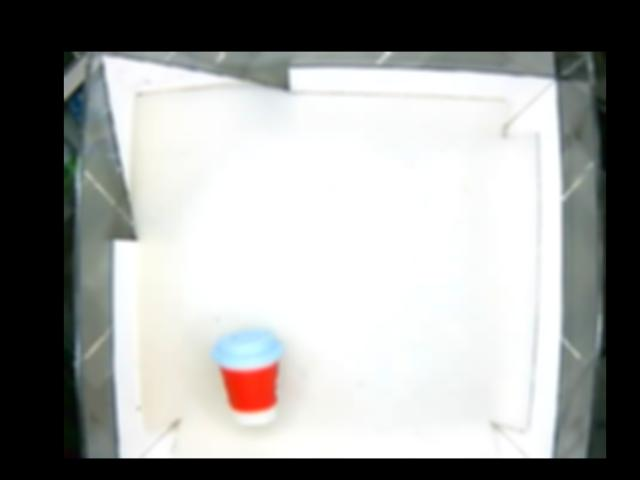Cup: (212, 327, 283, 427)
